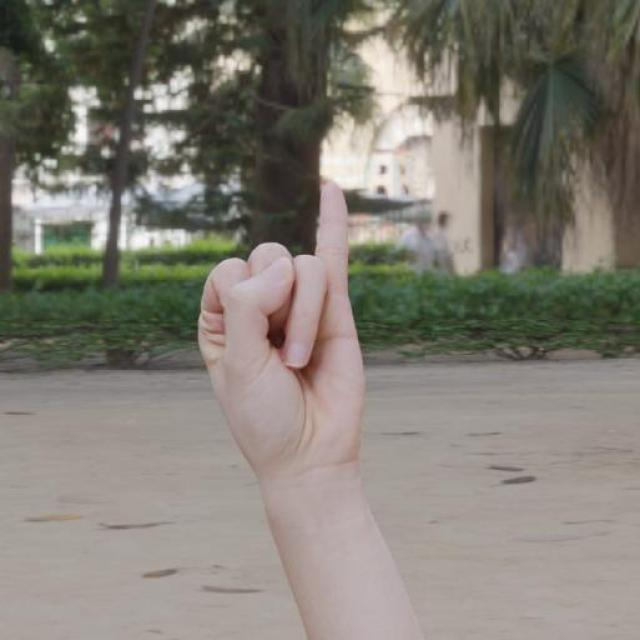I: (193, 178, 370, 488)
